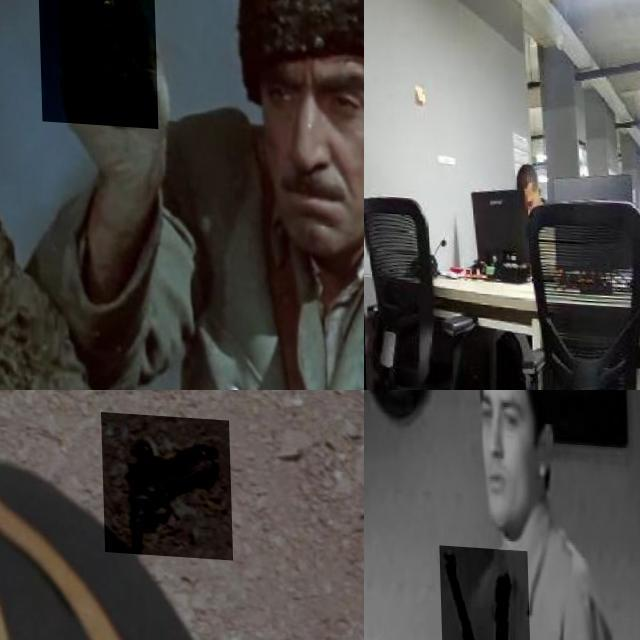-: (364, 299, 381, 390)
gun-knife-thesis - v11 Yolov5 augmented: (100, 409, 231, 556), (35, 0, 157, 126), (437, 539, 532, 640)
